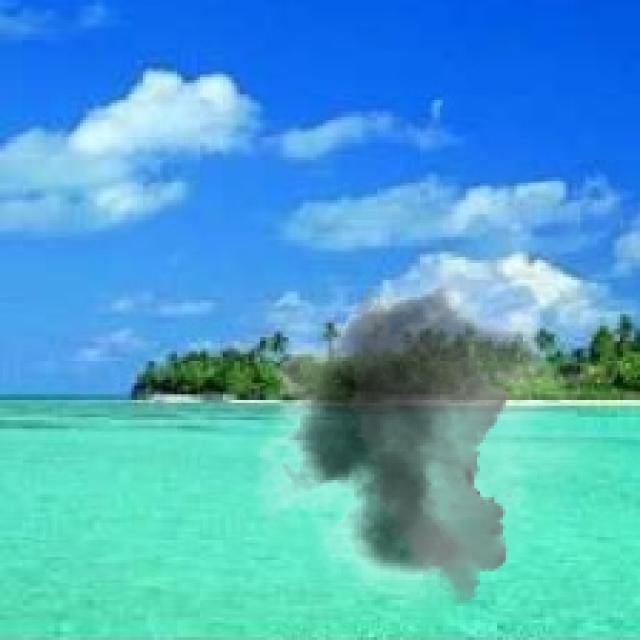smoke: (237, 257, 606, 606)
